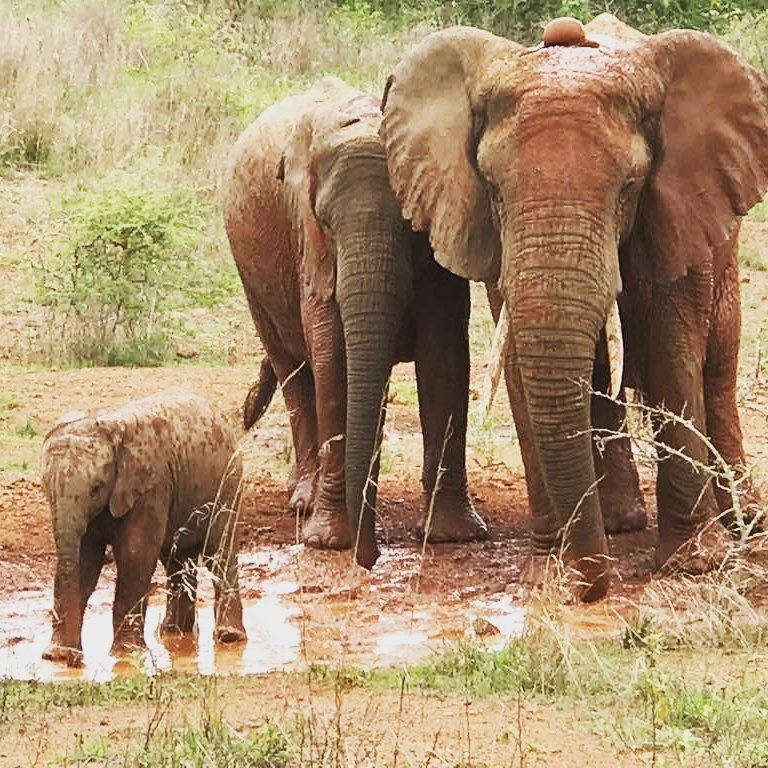elephant: (377, 10, 768, 611), (209, 66, 513, 575), (32, 384, 248, 676)
